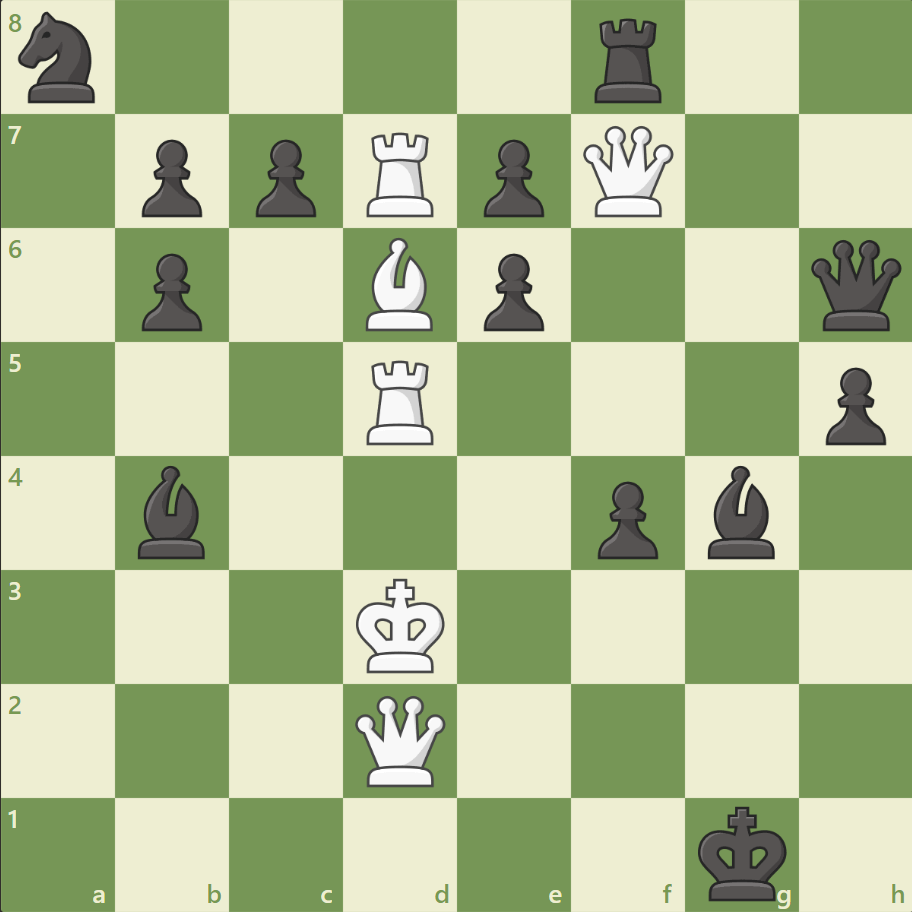B: (358, 233, 442, 336)
K: (351, 571, 451, 679)
Q: (578, 122, 677, 222), (351, 690, 450, 789)
R: (360, 125, 442, 222), (360, 352, 442, 449)
b: (131, 460, 215, 563), (698, 460, 782, 563)
k: (692, 798, 792, 906)
n: (11, 7, 108, 110)
p: (133, 132, 208, 223), (247, 132, 322, 223), (474, 132, 549, 223), (133, 246, 208, 337), (474, 246, 549, 337), (815, 359, 889, 450), (588, 473, 662, 564)
q: (805, 236, 904, 335)
r: (587, 12, 670, 109)
